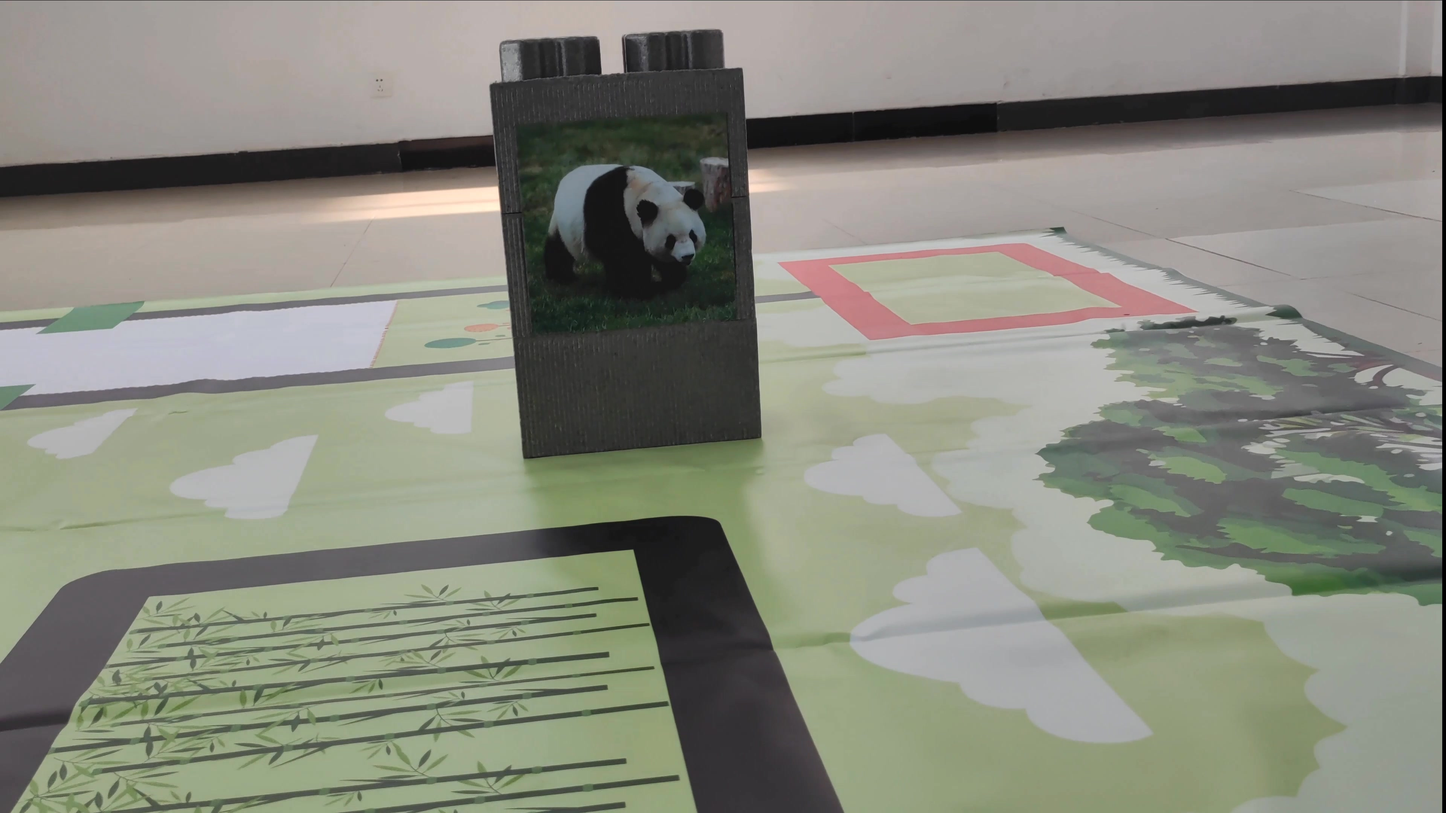panda: (533, 134, 714, 297)
